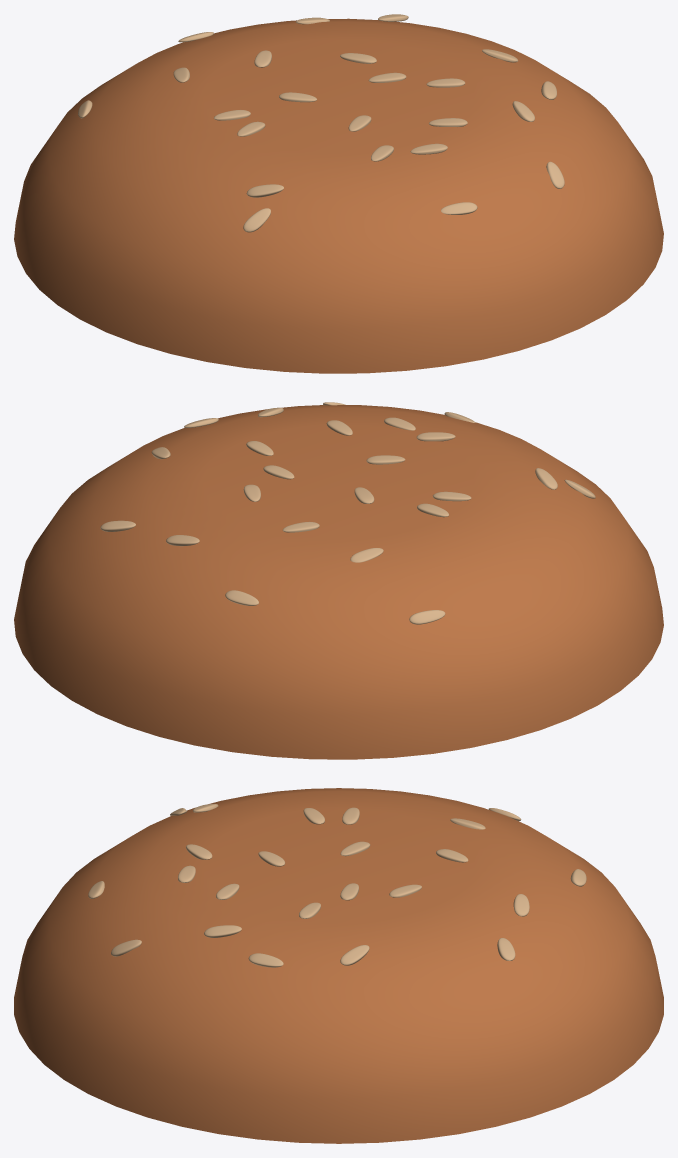
File: broodje_bovenkant.glb
3 renders of one model, top to bottom at view 1: azimuth 30°, elevation 25°; view 2: azimuth 150°, elevation 25°; view 3: azimuth 270°, elevation 25°, orthographic.
Parts seen in each view (by area): view 1: Cylinder.1; view 2: Cylinder.1; view 3: Cylinder.1.
Part boxes in pixels (x1=…): Cylinder.1: x1=14, y1=14, x2=663, y2=373; Cylinder.1: x1=14, y1=402, x2=663, y2=759; Cylinder.1: x1=14, y1=788, x2=663, y2=1143.
Size of the model in its own units: 1.05 by 0.255 by 1.05.
